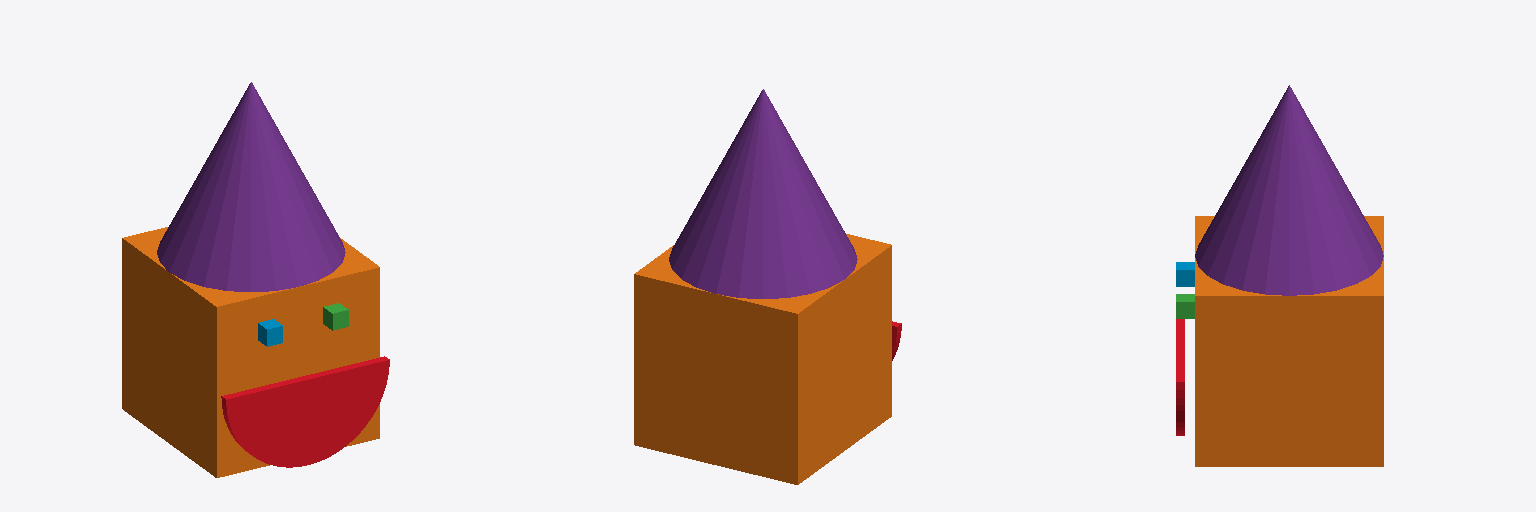
File: tinker.obj
3 views of the same model, side by side, from view 1: azimuth 30°, elevation 25°; view 2: azimuth 150°, elevation 25°; view 3: azimuth 270°, elevation 25° (orthographic).
Visible parts, largest first — view 1: obj_0; view 2: obj_0; view 3: obj_0.
Boxes of the visible parts, x1,y1,x2,y2 form: obj_0: [122, 82, 389, 477]; obj_0: [634, 89, 901, 484]; obj_0: [1176, 85, 1383, 466].
Bounding box in the file's own units: 20 × 40 × 22.